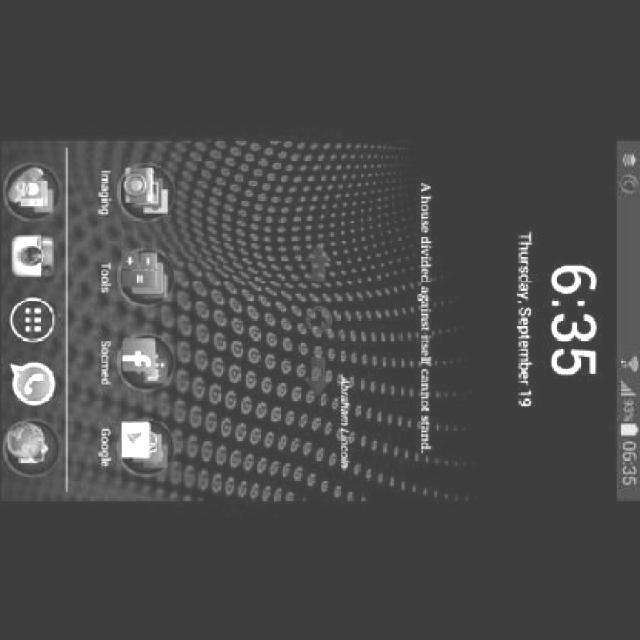fake: (0, 120, 588, 536)
